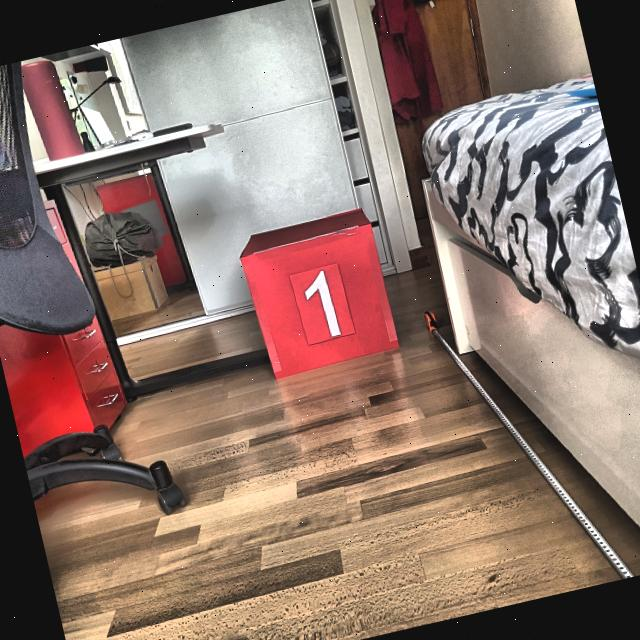one: (299, 266, 345, 343)
red box: (236, 206, 400, 378)
